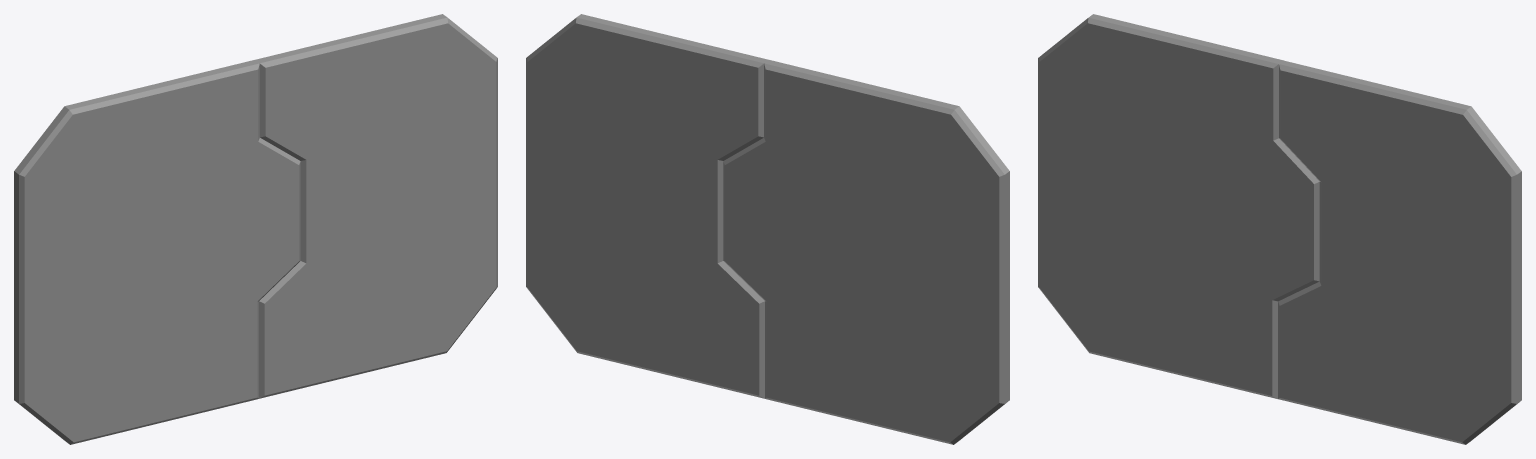
The model's file is Large_Door.fbx.
The picture shows the model from 3 angles, left to right: view 1: azimuth 30°, elevation 25°; view 2: azimuth 150°, elevation 25°; view 3: azimuth 330°, elevation 25°; orthographic projection.
Visible parts, largest first — view 1: right side of door, Left side of door; view 2: right side of door, Left side of door; view 3: right side of door, Left side of door.
Part boxes in pixels (x1,y1,x2,y2): right side of door: [14, 60, 300, 444]; Left side of door: [255, 14, 497, 398]; right side of door: [723, 60, 1009, 444]; Left side of door: [526, 14, 768, 398]; right side of door: [1038, 14, 1319, 398]; Left side of door: [1278, 60, 1521, 444].
Bounding box in the file's own units: 589 × 395 × 19.32.
